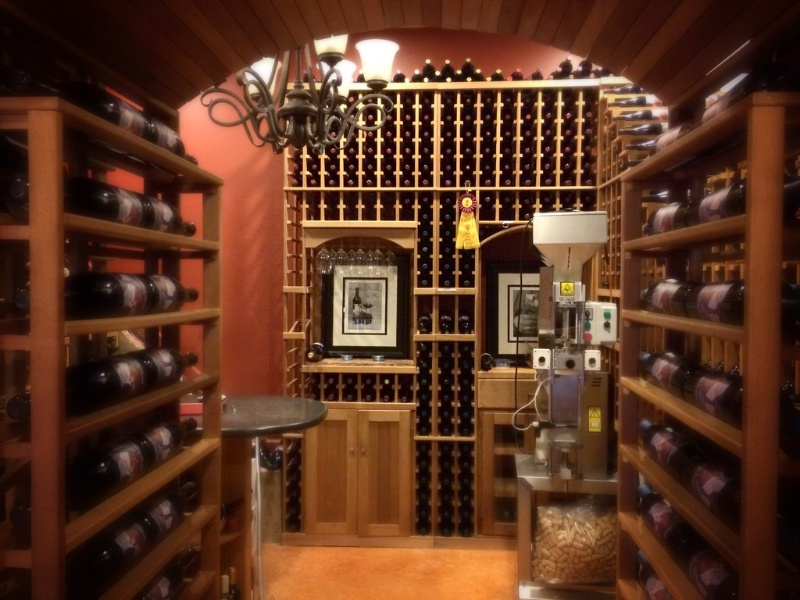wine: (284, 65, 625, 542), (4, 59, 233, 600), (602, 80, 753, 600)
